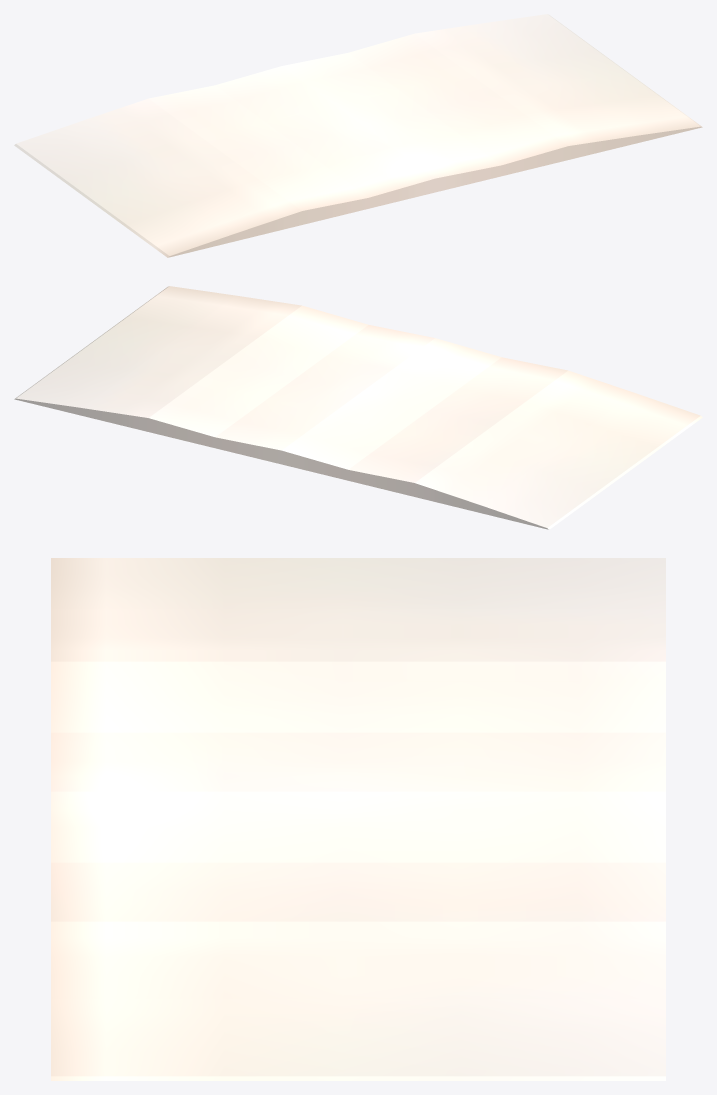
The model's file is SnowmobileTrack.glb.
The picture shows the model from 3 angles, top to bottom: view 1: azimuth 30°, elevation 25°; view 2: azimuth 150°, elevation 25°; view 3: azimuth 270°, elevation 25°; orthographic projection. The views are drawn at different scales.
Parts seen in each view (by area): view 1: SnowmobileTrack; view 2: SnowmobileTrack; view 3: SnowmobileTrack.
Part boxes in pixels (box(x1,y1,x2,y2)): SnowmobileTrack: box(14, 14, 702, 257); SnowmobileTrack: box(14, 286, 702, 529); SnowmobileTrack: box(51, 558, 665, 1080).
Size of the model in its own units: 8.04 by 0.2016 by 4.
1 material, 1 textured.
